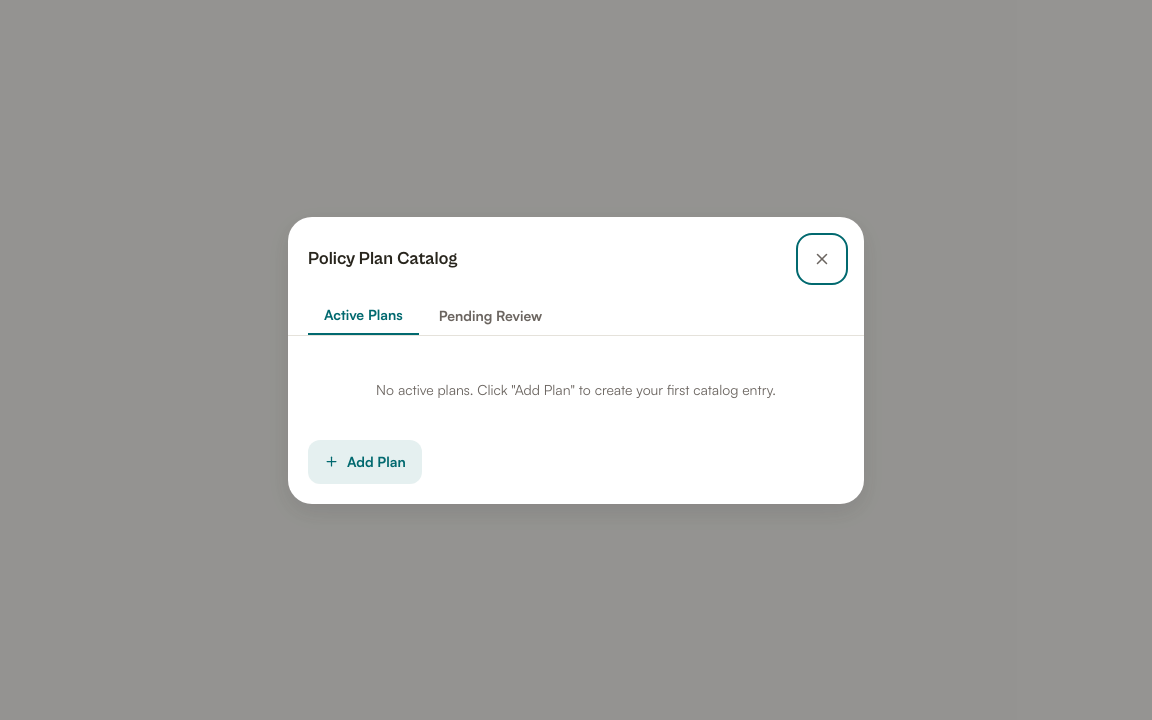
Scenario: Active Plans tab › Add Plan button opens add form
Expected: the text with test id "no-active-plans" is shown, [376,380,776,398]
Click the button with test id "add-plan-btn". click: (365, 462)
box: [308,440,422,484]
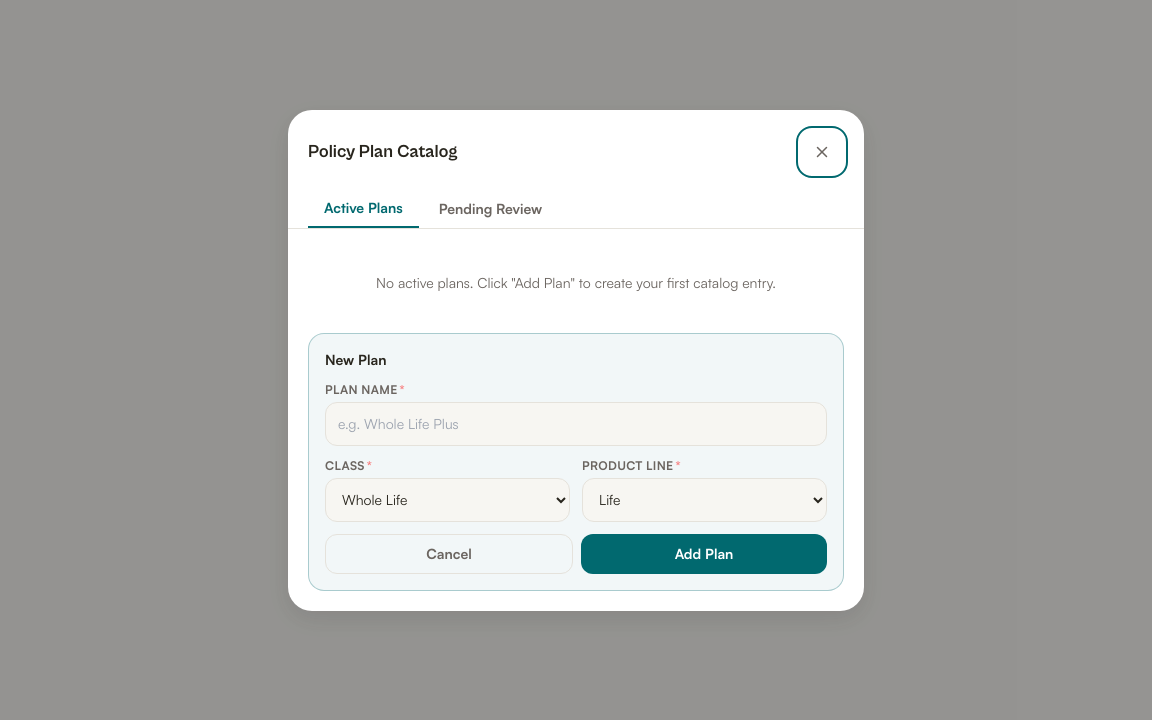
Result: the form with test id "plan-form" is shown at [308,332,844,590]
Result: the text "New Plan" is shown at [325,350,386,368]
